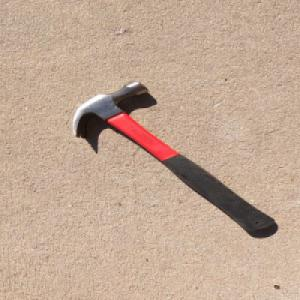Hammer: (68, 78, 279, 233)
